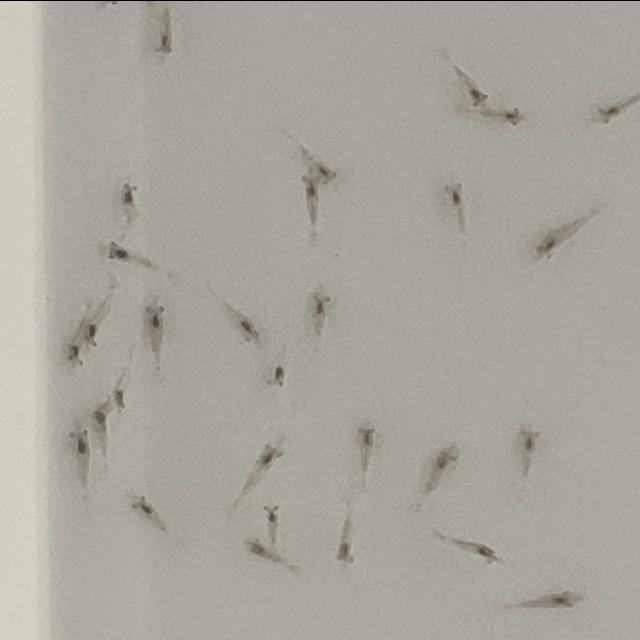shrimp-seed: (256, 436, 286, 466), (517, 424, 543, 456), (546, 586, 577, 612), (431, 444, 462, 470), (308, 288, 334, 316), (442, 179, 466, 209), (333, 536, 357, 566), (67, 428, 91, 458), (472, 540, 499, 566), (106, 236, 132, 262), (534, 235, 558, 263), (145, 302, 167, 331), (64, 341, 86, 369), (315, 162, 339, 186), (238, 318, 262, 342), (356, 424, 378, 450), (594, 102, 618, 125), (132, 493, 156, 516), (264, 364, 289, 386), (154, 31, 176, 56), (91, 406, 112, 432), (246, 536, 268, 560), (119, 180, 141, 204), (468, 85, 491, 107), (300, 174, 320, 199), (501, 105, 524, 126), (83, 323, 102, 347), (264, 502, 282, 524), (112, 384, 127, 408)
